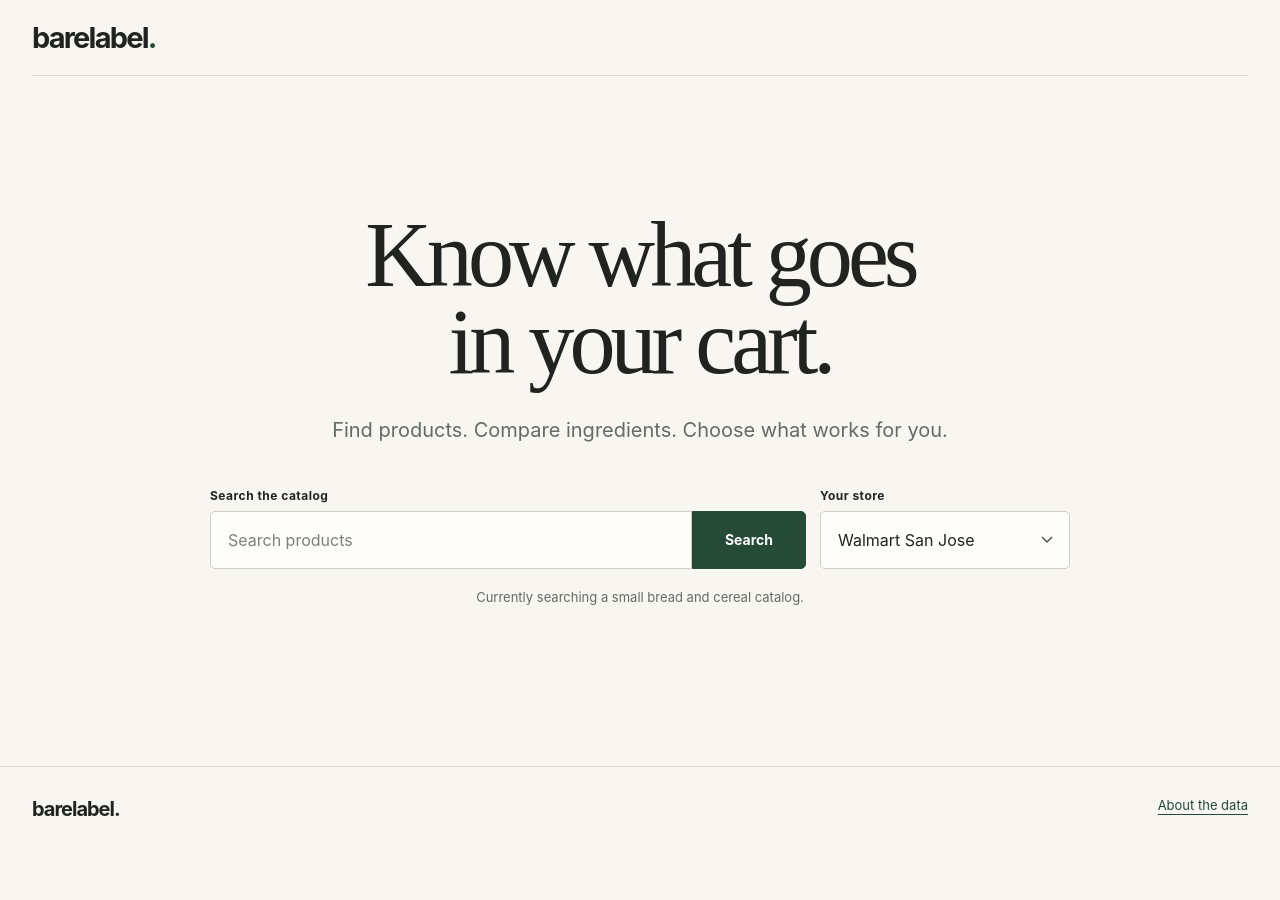
Test case: search-first shopper flow › builds a two-slot tray and a single aligned comparison table
Type "bread" into the search field labelled "Search the catalog" at [451, 540], box [210,511,692,569]
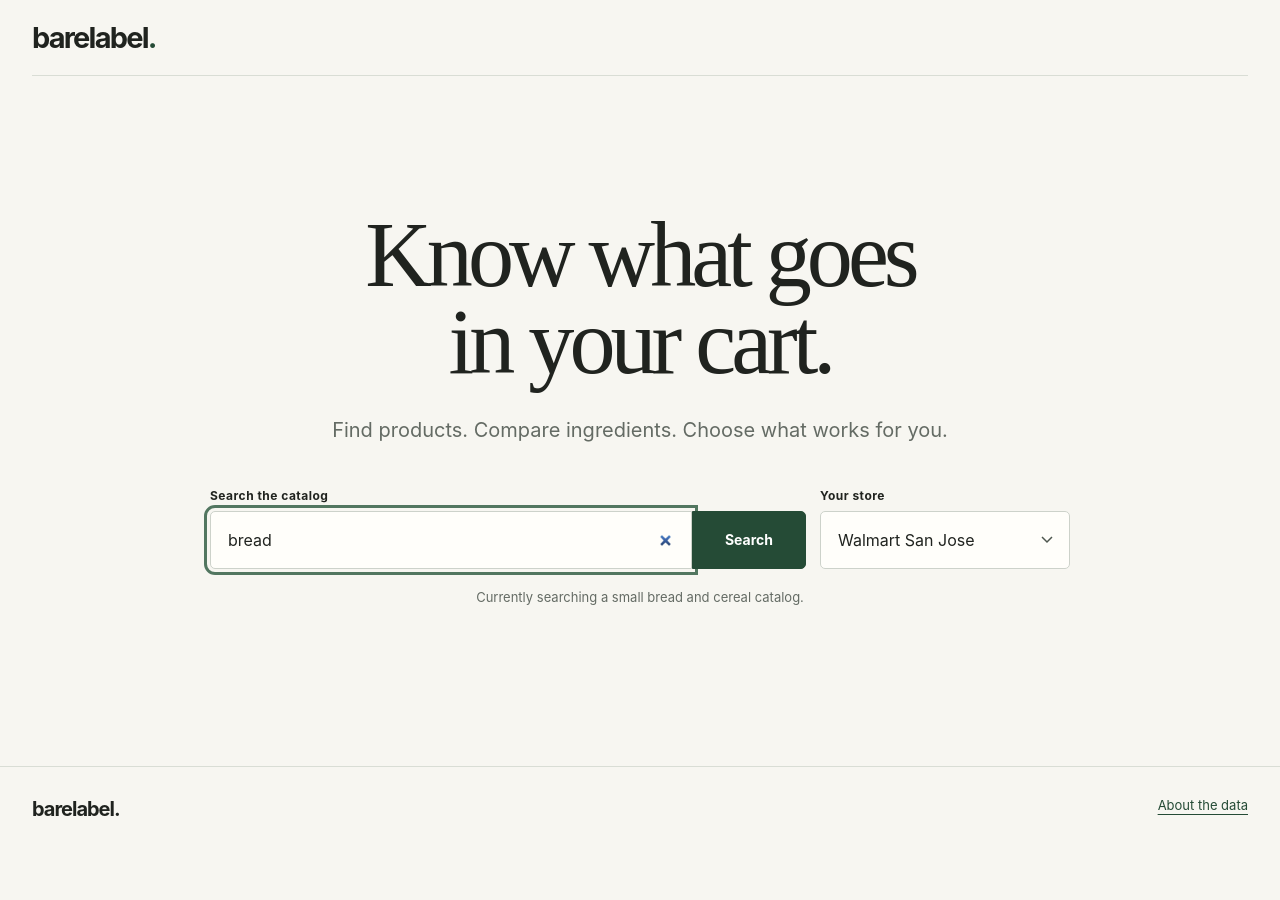
Click the button with aria-label "Search products" at [749, 540], box [692,511,806,569]
(page scrolled)
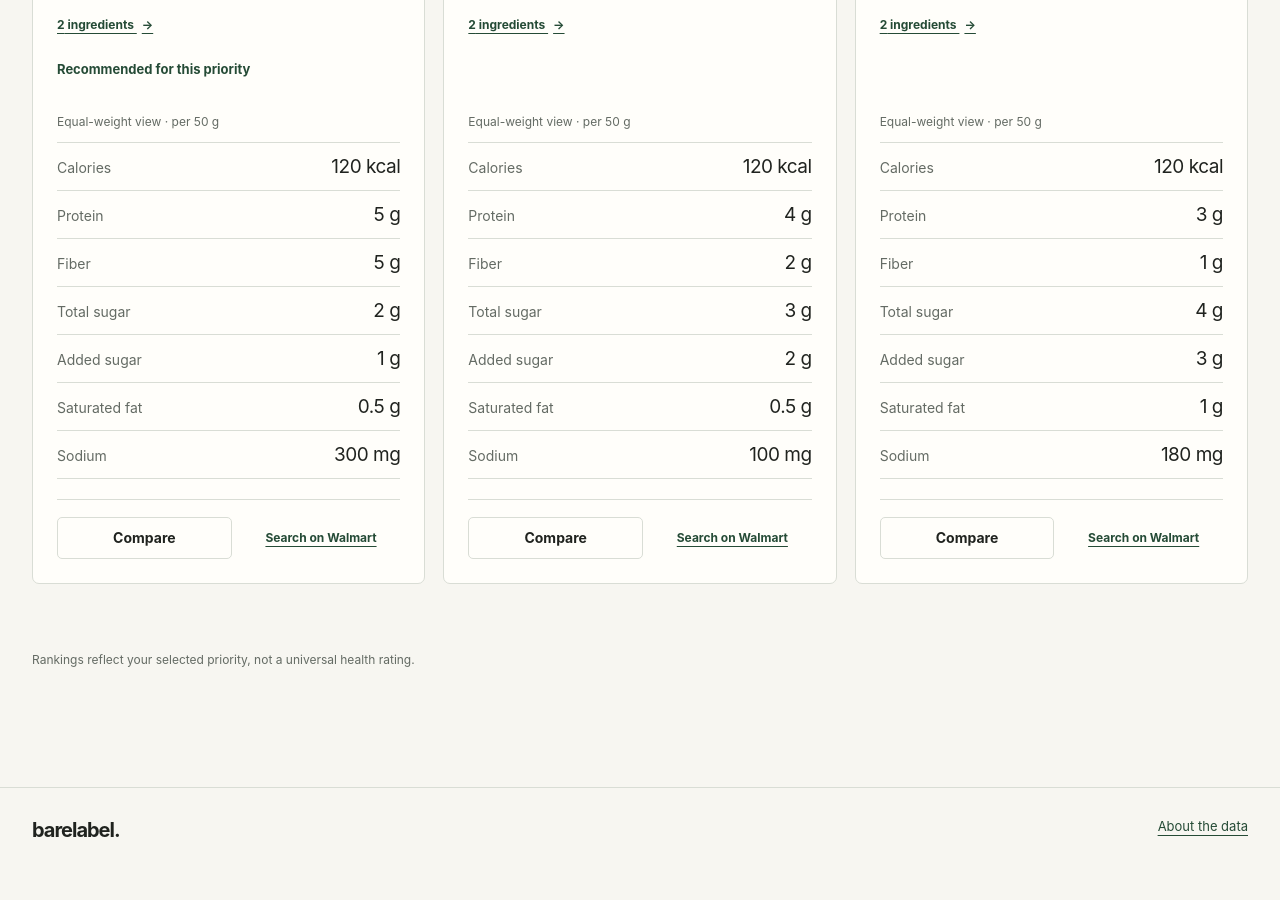
Click the button "Compare" below "300 mg" at [144, 538], box [57,517,232,559]
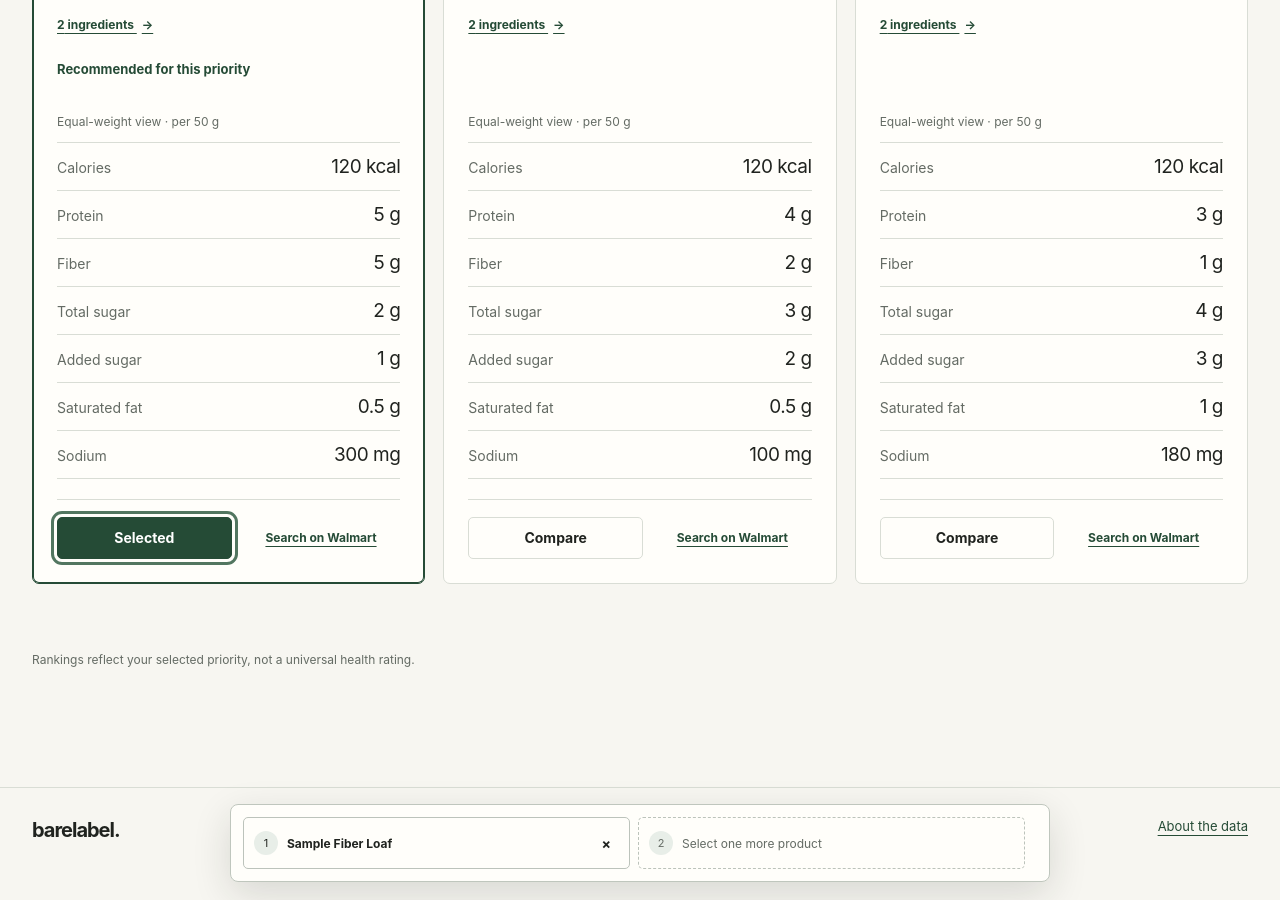
Check: the text "Select one more product" is shown, box [682,836,822,850]
Click the button "Compare" below "100 mg" at [556, 538], box [468,517,643,559]
(page scrolled)
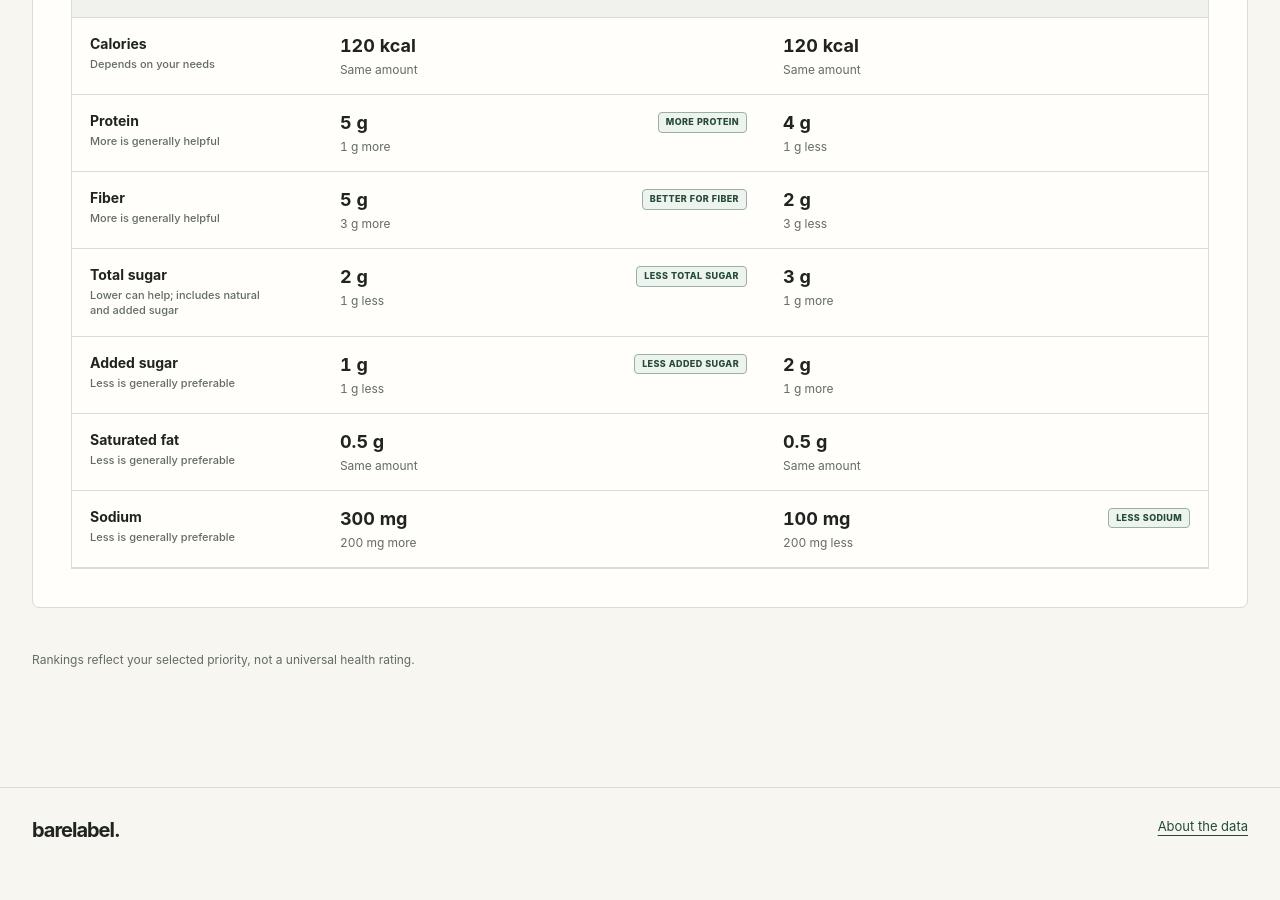
Check: the column heading "Calories Depends on your needs" is shown, box [72,18,322,94]
Check: the column heading "Protein More is generally helpful" is shown, box [72,94,322,171]
Check: the column heading "Fiber More is generally helpful" is shown, box [72,171,322,248]
